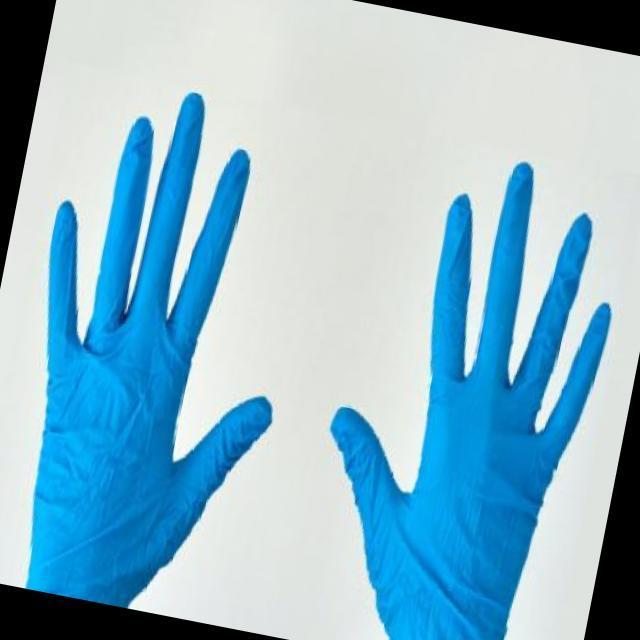Gloves: (26, 83, 282, 640), (325, 159, 619, 640)
